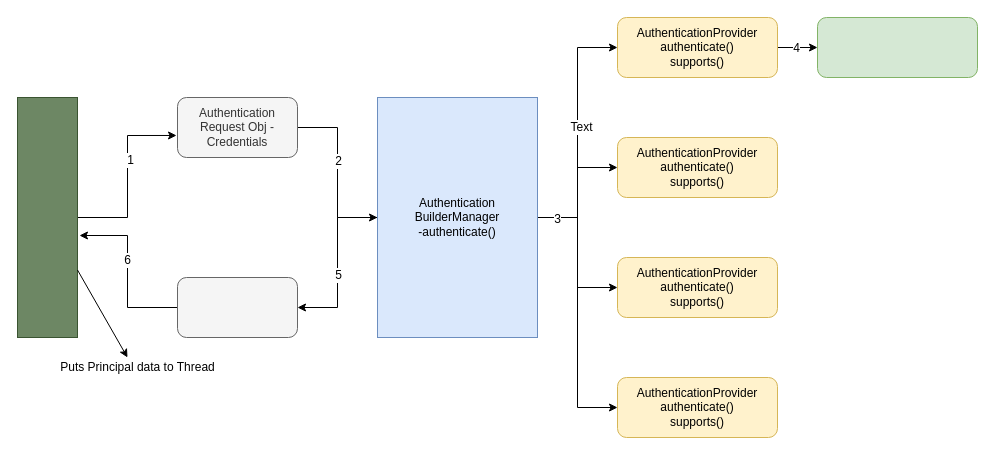
The diagram is 995 pixels wide and 455 high, and some of its shapes have lost their labels. The shapes that lost their labels are listed below. From the top down, each one's box as (x1, y1, x2, y2) in pixels, then its label:
(816, 16, 978, 78): UserDetailService loadUserByUserName()
(16, 96, 78, 338): FILTER
(176, 276, 298, 338): Authentication Response Obj - Principal
